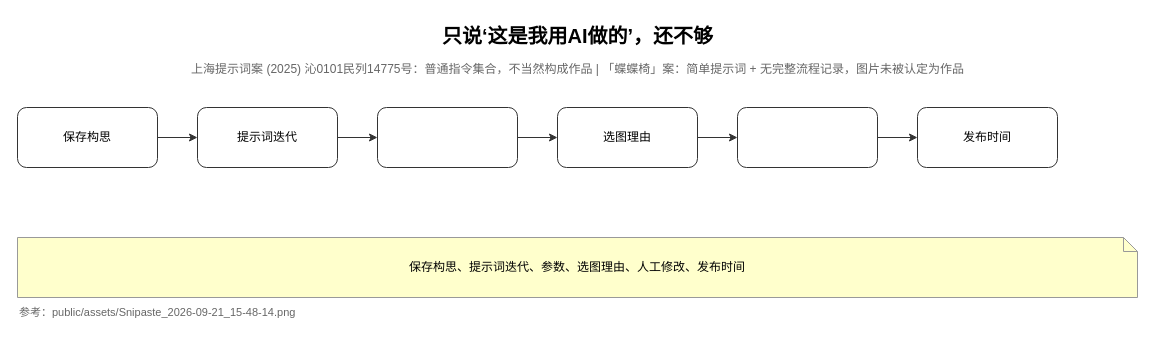
This 1155x338 diagram has some shape labels left out. Here are the shapes that lost their labels. From the top down, the box of each, then its label:
(376, 106, 518, 168): 参数
(736, 106, 878, 168): 人工修改
